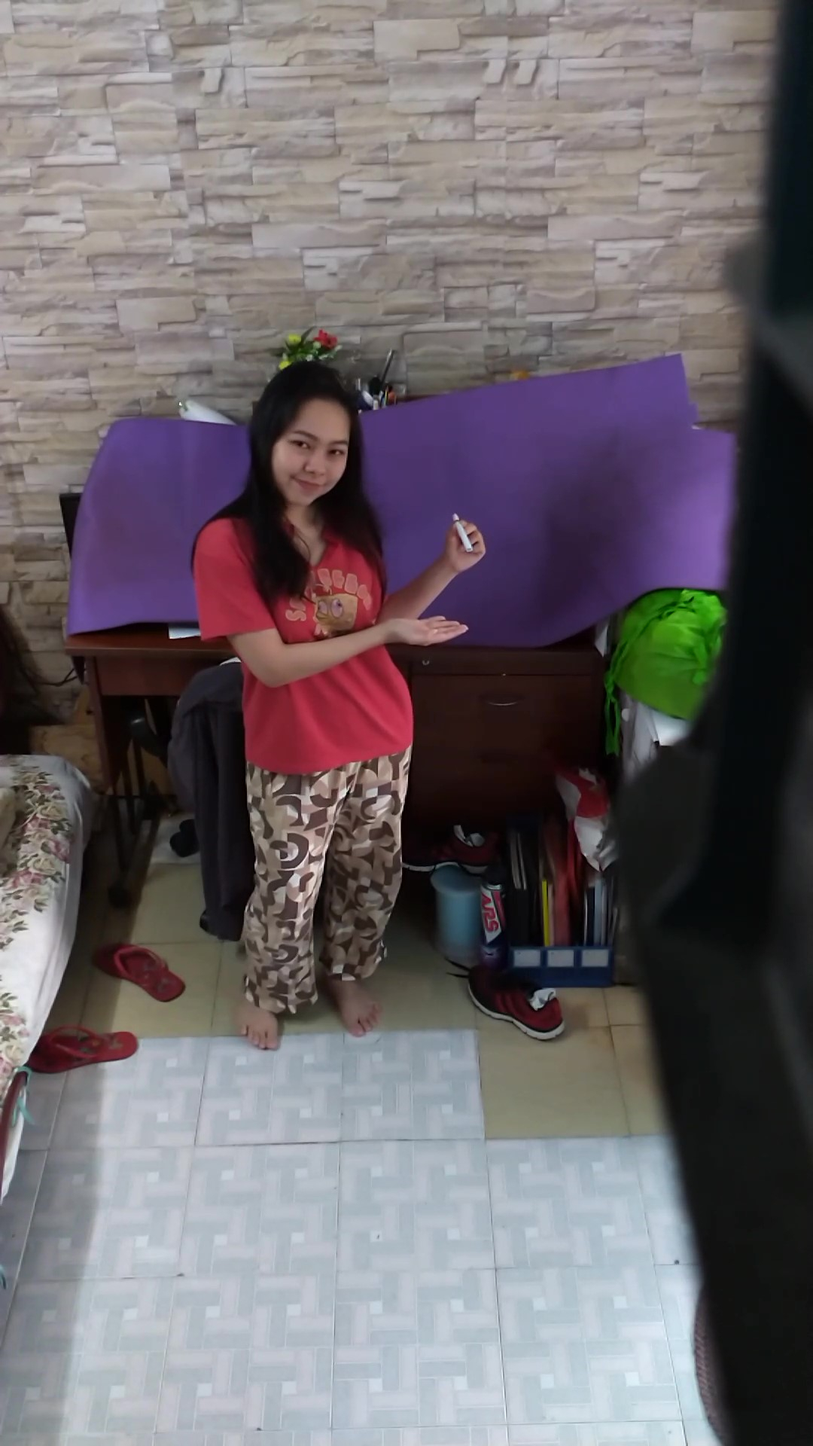cigarette: (449, 508, 474, 557)
person: (183, 346, 485, 1075)
